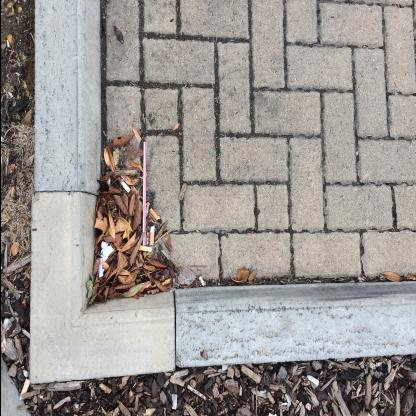plastik: (142, 141, 146, 246)
